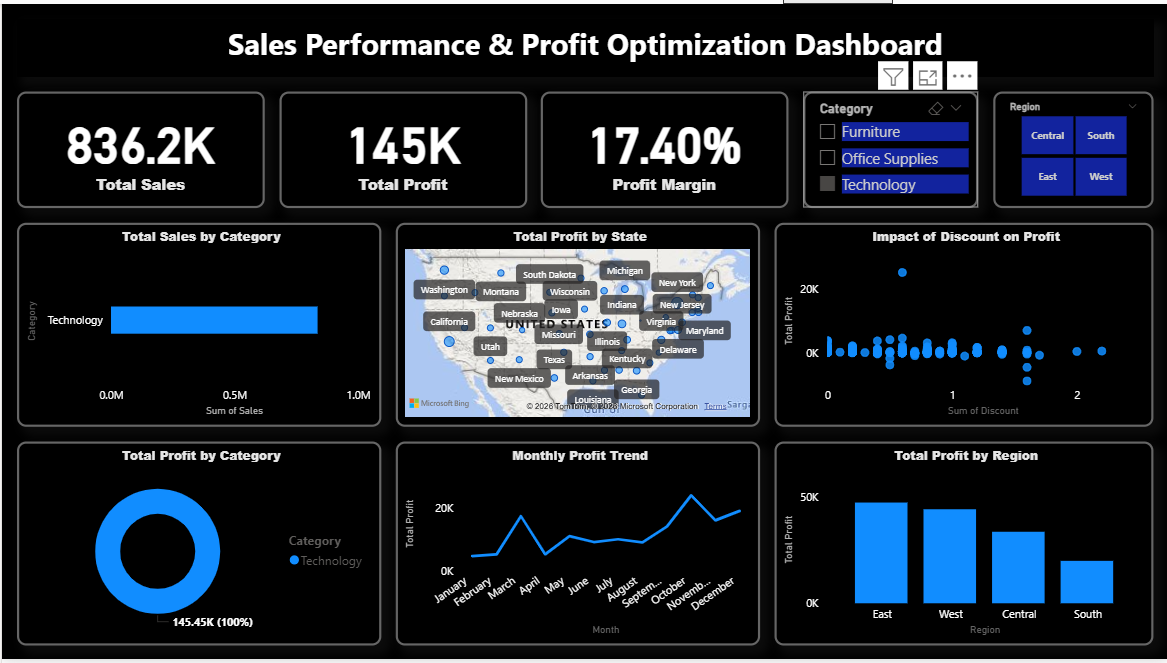

Layout of this report page (visuals, bound fields, positions):
{"tool":"powerbi","page":{"name":"Dashboard","canvas":[1280,720],"ordinal":0},"visuals":[{"type":"card","title":"Total Profit","fields":{"Values":["cleaned_data.Total Sales"]},"box":[16,96,272,128],"z":0},{"type":"clusteredBarChart","title":"Total Sales by Category","fields":{"Category":["cleaned_data.Category"],"Y":["Sum(cleaned_data.Sales)"]},"box":[16,240,400,224],"z":1000},{"type":"clusteredColumnChart","fields":{"Category":["cleaned_data.Region"],"Y":["cleaned_data.Total Profit"]},"box":[848,480,416,224],"z":2000},{"type":"lineChart","title":"Monthly Profit Trend","fields":{"Y":["cleaned_data.Total Profit"],"Category":["cleaned_data.Order Date.Variation.Date Hierarchy.Month"]},"box":[432,480,400,224],"z":3000},{"type":"card","title":"Total Profit","fields":{"Values":["cleaned_data.Total Profit"]},"box":[304,96,272,128],"z":4000},{"type":"card","title":"Total Profit","fields":{"Values":["cleaned_data.Profit Margin"]},"box":[592,96,272,128],"z":5000},{"type":"donutChart","fields":{"Category":["cleaned_data.Category"],"Y":["cleaned_data.Total Profit"]},"box":[16,480,400,224],"z":6000},{"type":"scatterChart","title":"Impact of Discount on Profit","fields":{"Category":["cleaned_data.Product Name"],"X":["Sum(cleaned_data.Discount)"],"Y":["cleaned_data.Total Profit"]},"box":[848,240,416,224],"z":7000},{"type":"slicer","fields":{"Values":["cleaned_data.Category"]},"box":[880,96,192,128],"z":8000},{"type":"slicer","fields":{"Values":["cleaned_data.Region"]},"box":[1088,96,176,128],"z":9000},{"type":"map","fields":{"Category":["cleaned_data.State"],"Size":["cleaned_data.Total Profit"]},"box":[432,240,400,224],"z":10000},{"type":"textbox","box":[16,16,1248,64],"z":11000}]}

Visuals, with their boxes in screenshot pixels (x1, y1, x2, y2), scaled from the page's 1280x720 canvas onto the 1167x663 screenshot:
"Total Profit" card: bbox(15, 88, 263, 206)
"Total Sales by Category" clusteredBarChart: bbox(15, 221, 379, 427)
clusteredColumnChart - cleaned_data.Region x cleaned_data.Total Profit: bbox(773, 442, 1152, 648)
"Monthly Profit Trend" lineChart: bbox(394, 442, 759, 648)
"Total Profit" card: bbox(277, 88, 525, 206)
"Total Profit" card: bbox(540, 88, 788, 206)
donutChart - cleaned_data.Category x cleaned_data.Total Profit: bbox(15, 442, 379, 648)
"Impact of Discount on Profit" scatterChart: bbox(773, 221, 1152, 427)
slicer - cleaned_data.Category: bbox(802, 88, 977, 206)
slicer - cleaned_data.Region: bbox(992, 88, 1152, 206)
map - cleaned_data.State x cleaned_data.Total Profit: bbox(394, 221, 759, 427)
textbox: bbox(15, 15, 1152, 74)
